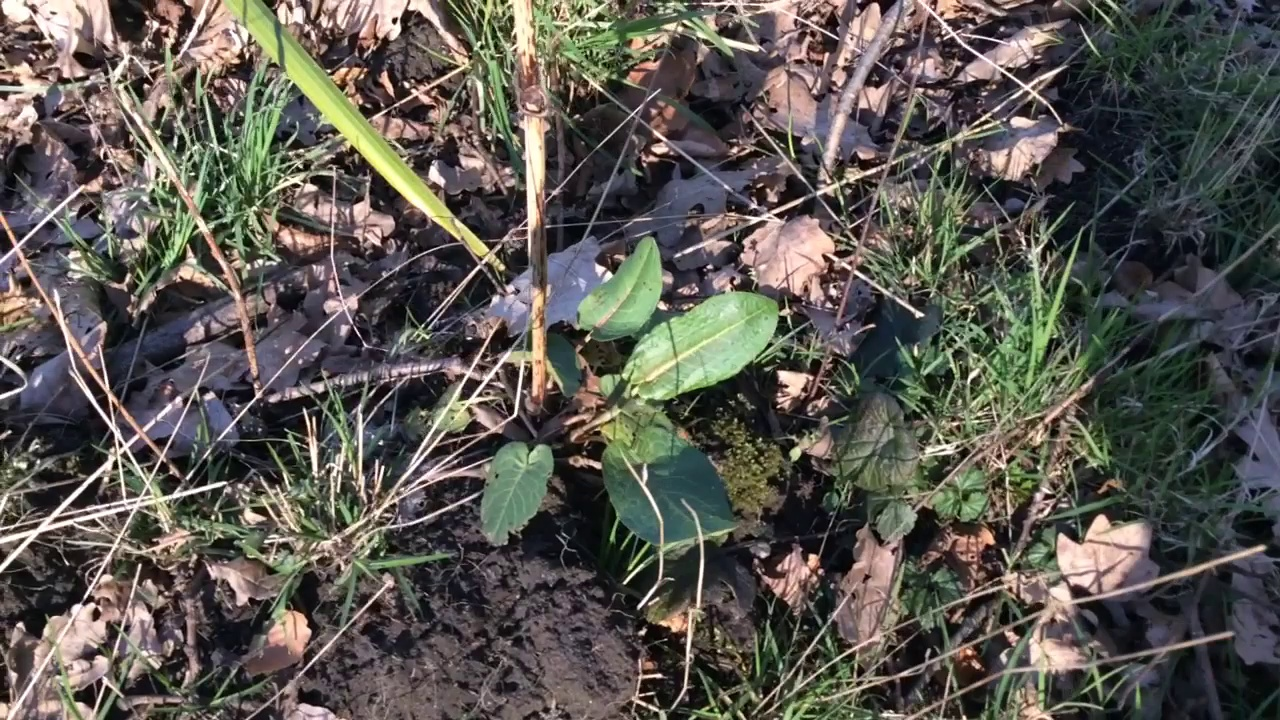rumex: (428, 234, 780, 550)
